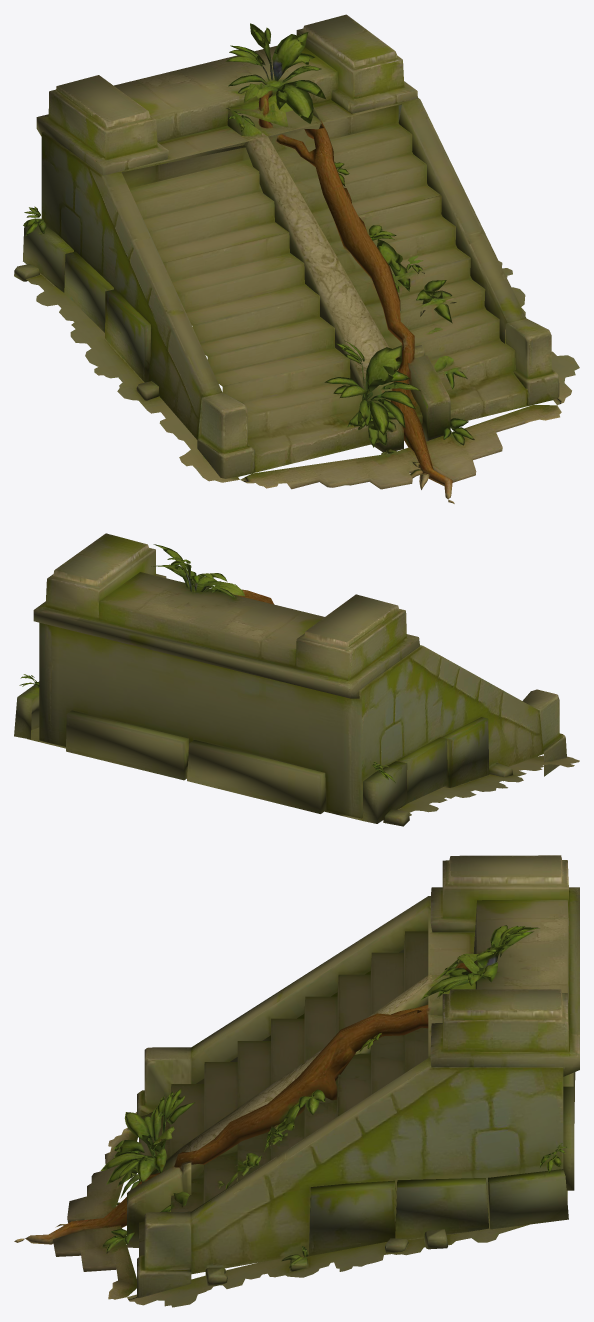
3 renders of one model, top to bottom at view 1: azimuth 30°, elevation 25°; view 2: azimuth 150°, elevation 25°; view 3: azimuth 270°, elevation 25°, orthographic. The views are drawn at different scales.
Visible parts, largest first — view 1: tripo_node_fc7c1114-64a5-4874-865a-a278f9579109; view 2: tripo_node_fc7c1114-64a5-4874-865a-a278f9579109; view 3: tripo_node_fc7c1114-64a5-4874-865a-a278f9579109.
Part boxes in pixels (x1=…): tripo_node_fc7c1114-64a5-4874-865a-a278f9579109: x1=14, y1=14, x2=579, y2=503; tripo_node_fc7c1114-64a5-4874-865a-a278f9579109: x1=14, y1=533, x2=579, y2=826; tripo_node_fc7c1114-64a5-4874-865a-a278f9579109: x1=14, y1=855, x2=579, y2=1307.
Size of the model in its own units: 0.9434 by 0.6465 by 0.998.
Materials: 1 (1 with a texture image).
